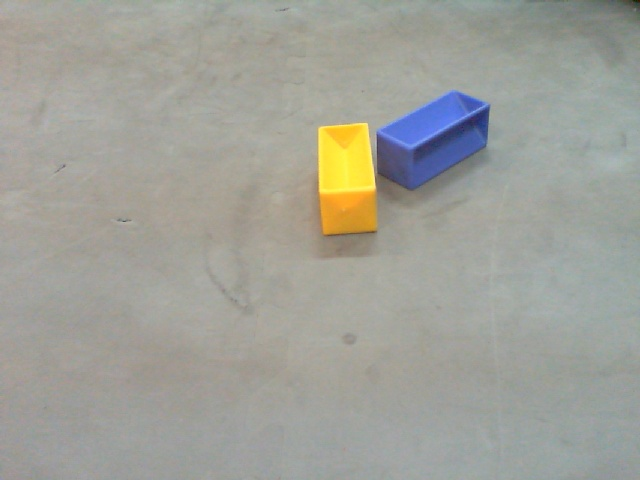BlueSample: (375, 89, 493, 192)
YellowSample: (316, 121, 375, 239)
